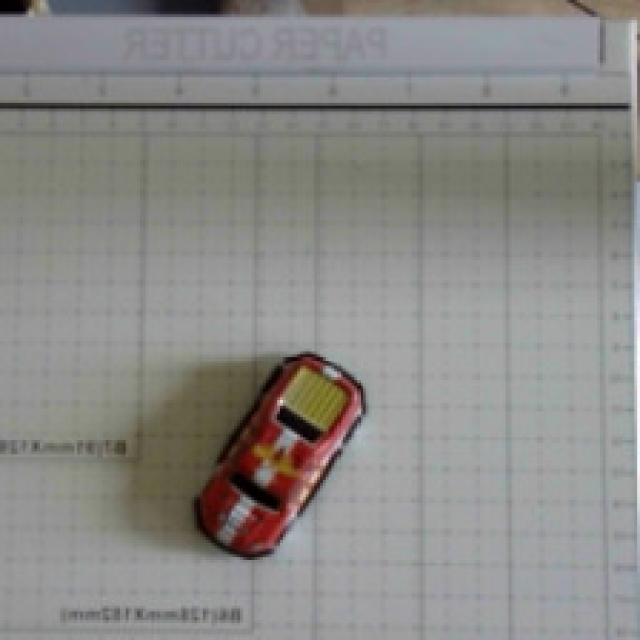Red Car: (136, 320, 404, 610)
